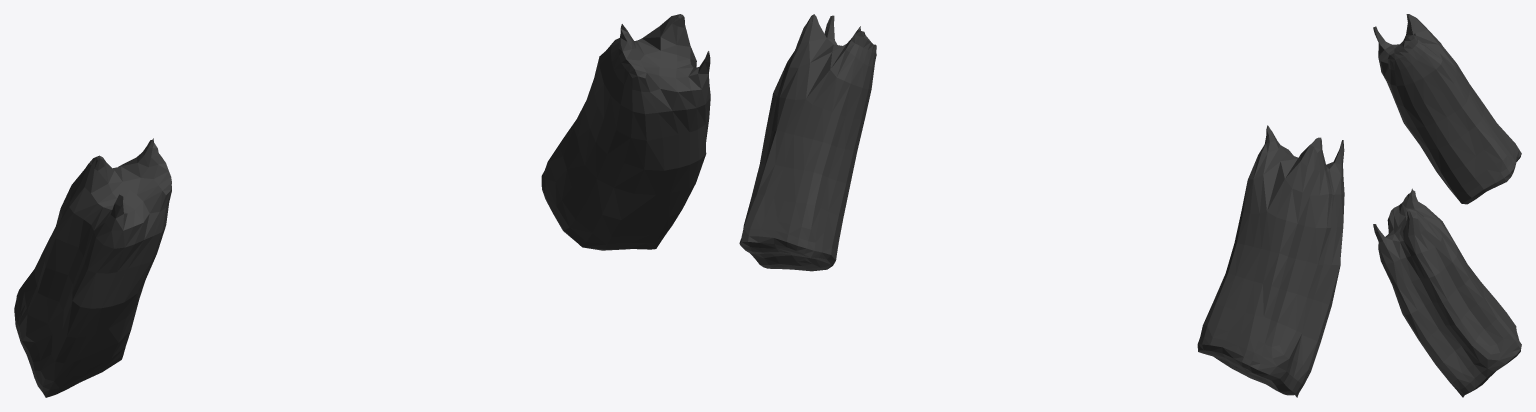
Rendered from R_max_M2_LO.glb.
3 views of the same model, side by side, from view 1: azimuth 30°, elevation 25°; view 2: azimuth 150°, elevation 25°; view 3: azimuth 270°, elevation 25° (orthographic). The views are drawn at different scales.
Parts seen in each view (by area): view 1: R_max_M2_LO; view 2: R_max_M2_LO; view 3: R_max_M2_LO.
Part boxes in pixels (x1,y1,x2,y2): R_max_M2_LO: (14,14,710,397); R_max_M2_LO: (739,14,1344,397); R_max_M2_LO: (1373,14,1521,397).
Size of the model in its own units: 0.0013 by 0.000524 by 0.00038.
Materials: 1 (1 with a texture image).
